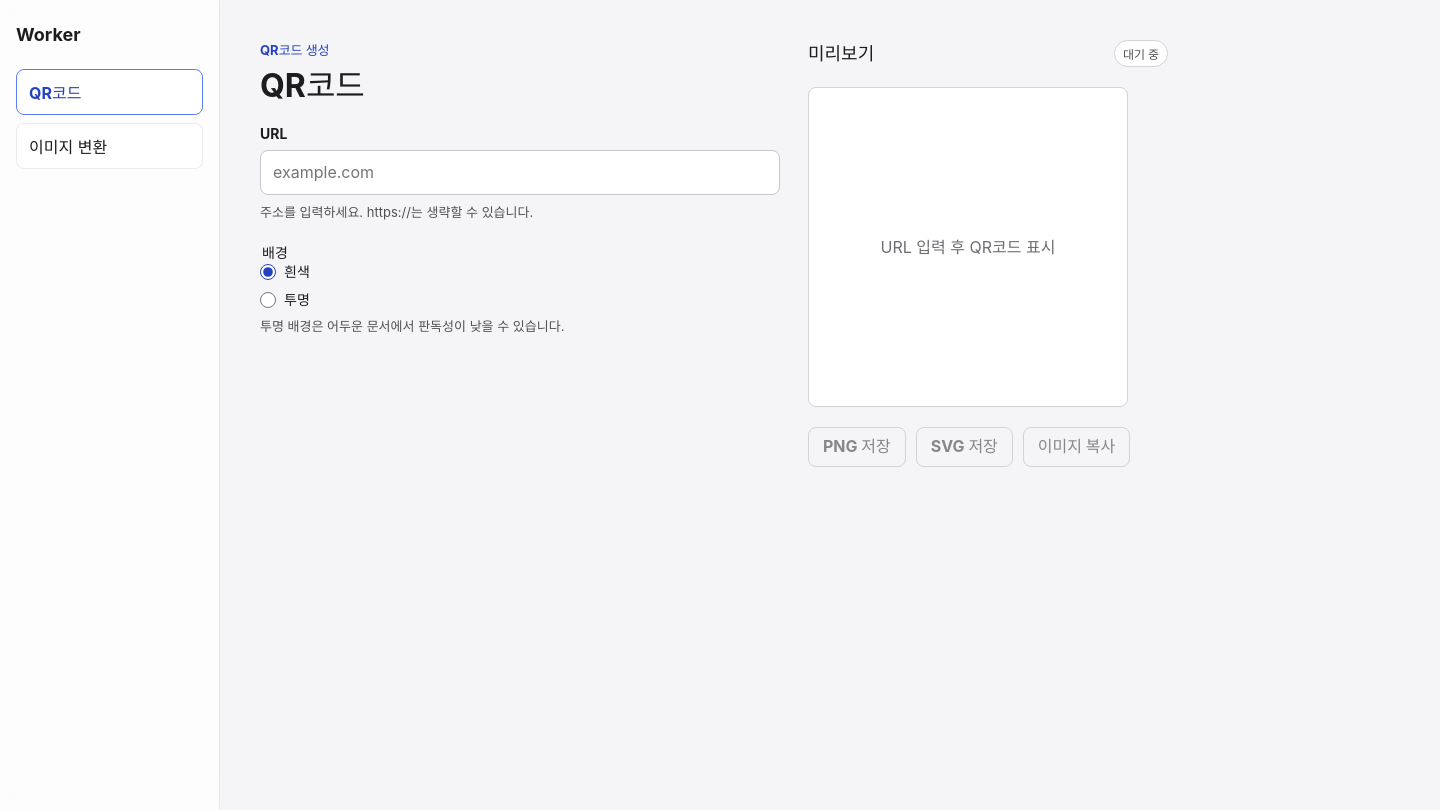
Test case: App › shows a validation error after an empty URL input is visited
Click the field labelled "URL" at (520,173), box [260, 150, 780, 195]
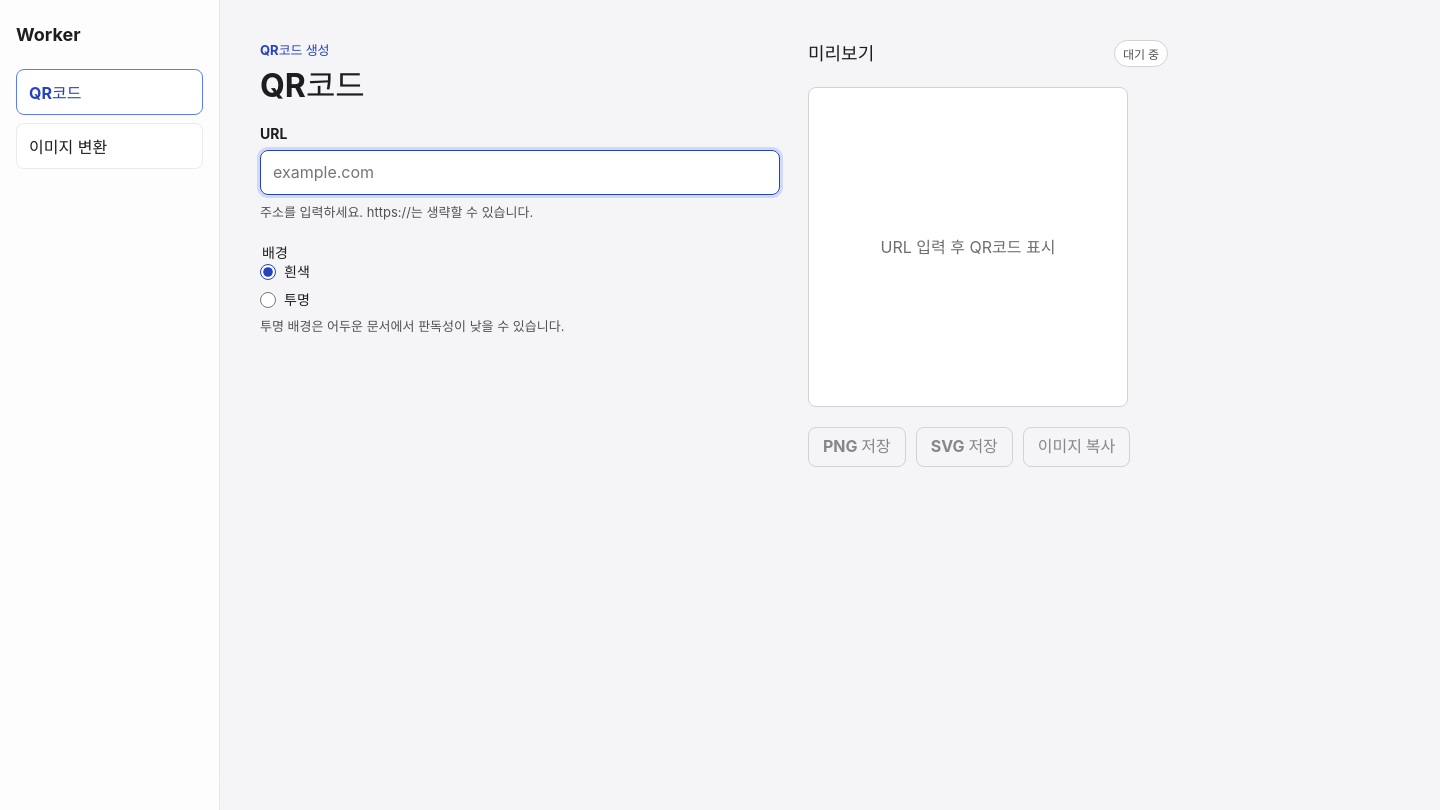
Press Tab
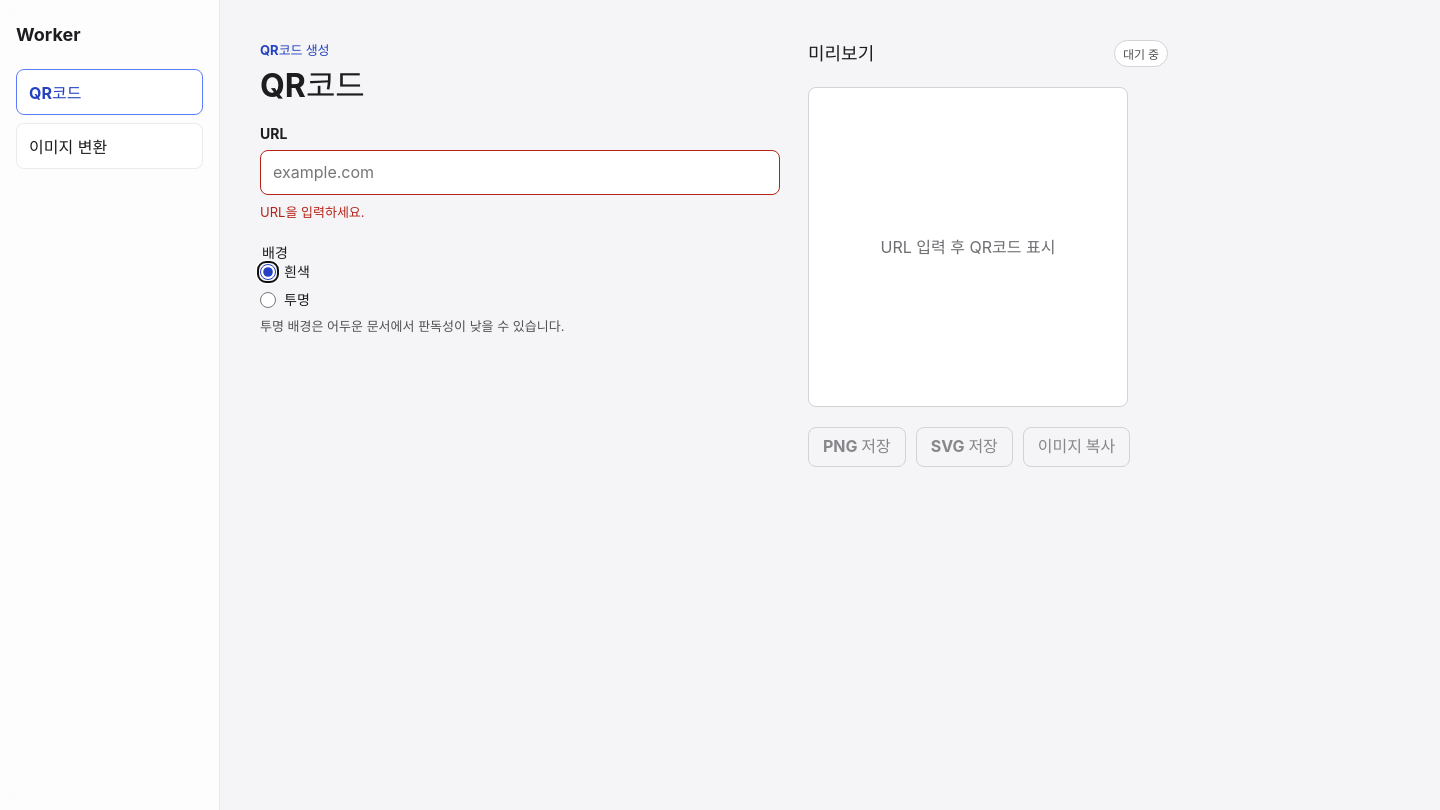
Expected: the message reads "URL을 입력하세요.", [260, 204, 365, 220]
